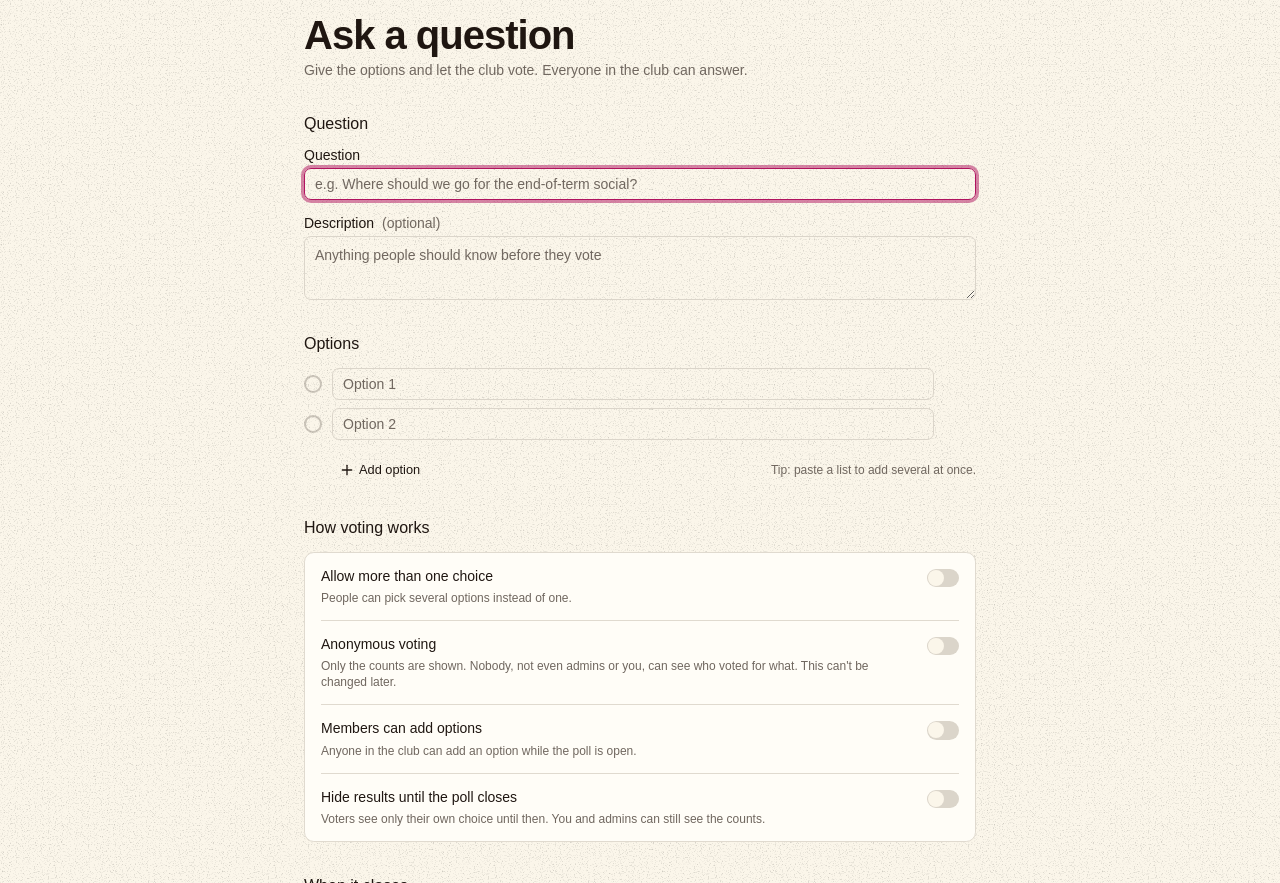
QuestionPollForm › shows the server's refusal
Type "Q" into the field labelled "Question".
click(640, 184); type("Q")  # box [304,168,976,200]
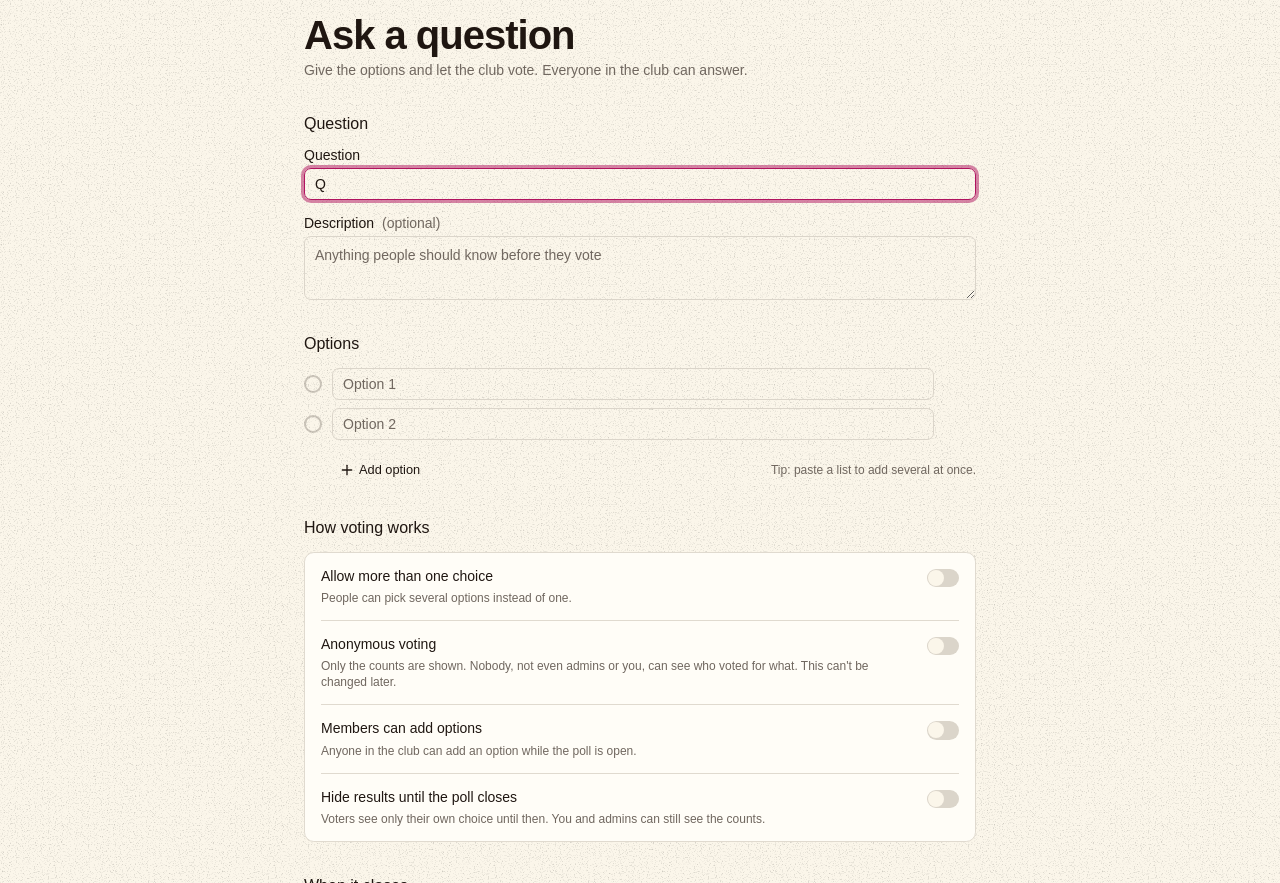
Type "A" into the field with placeholder "Option 1".
click(633, 384); type("A")  # box [332,368,934,400]
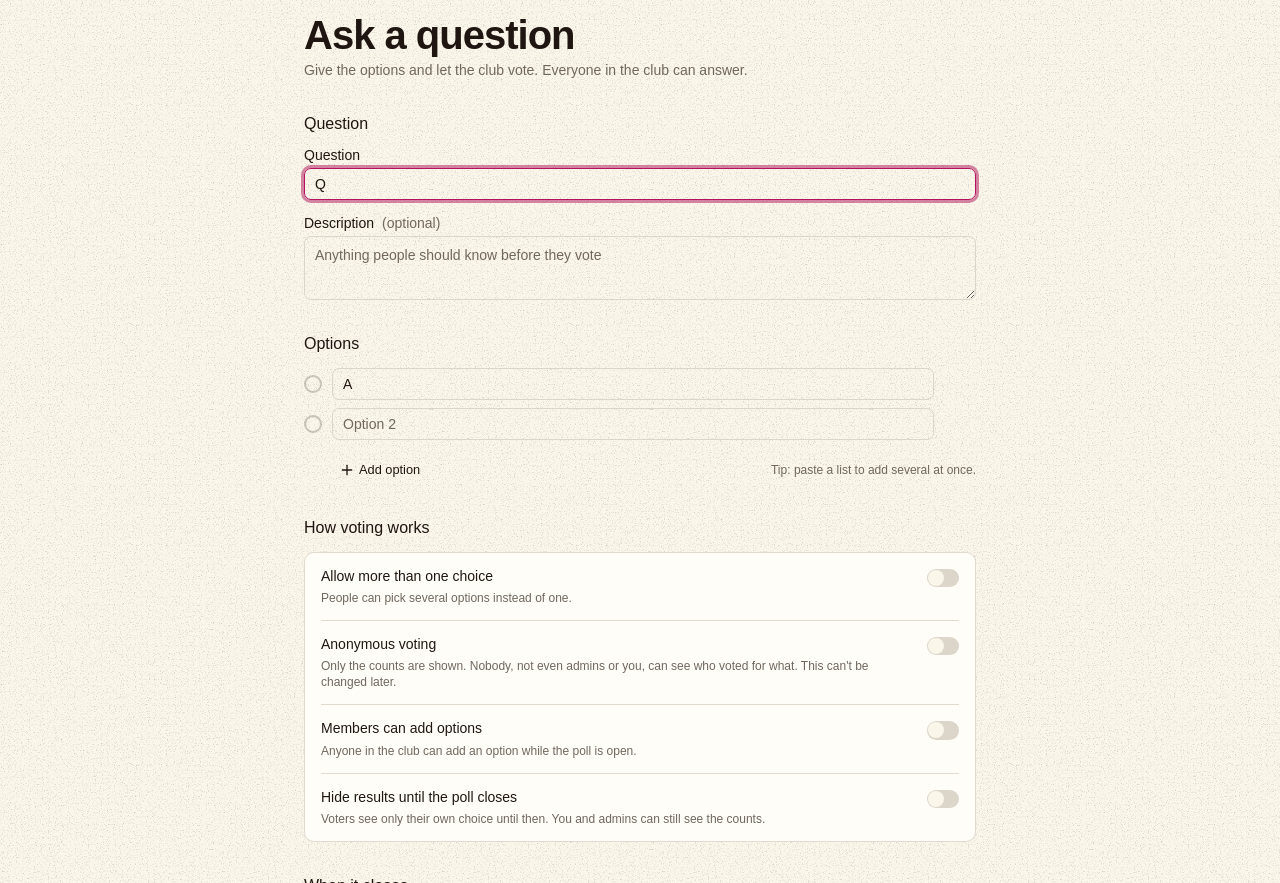
Type "B" into the field with placeholder "Option 2".
click(633, 424); type("B")  # box [332,408,934,440]
(page scrolled)
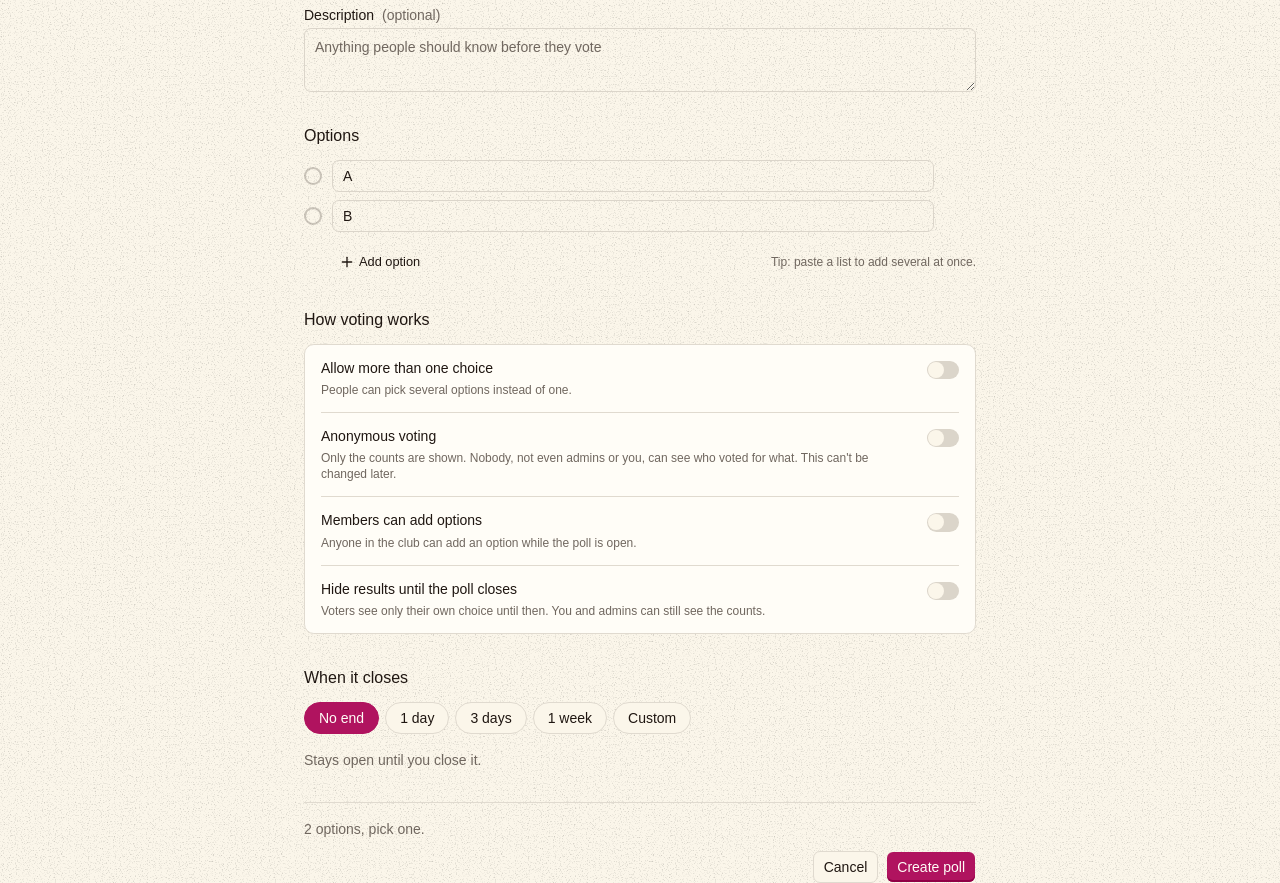
Click the button "Create poll".
click(931, 867)  # box [886,851,976,882]
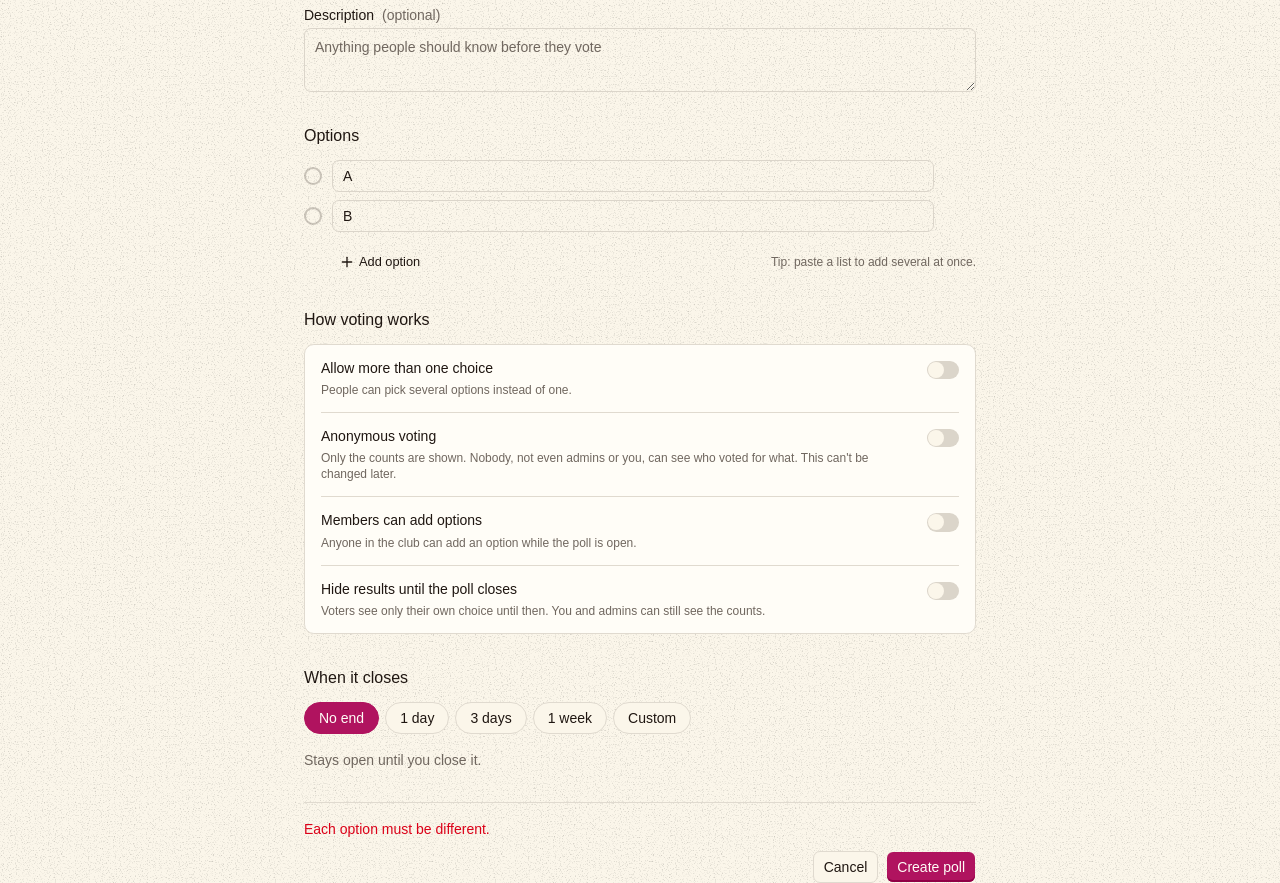
Now the message reads "Each option must be different.", box [304,821,490,837]
